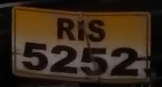2: (109, 46, 140, 78), (50, 43, 79, 75)
5: (78, 46, 110, 76), (22, 41, 49, 72)
I: (77, 16, 86, 43)
R: (56, 15, 76, 42)
S: (87, 16, 106, 43)
